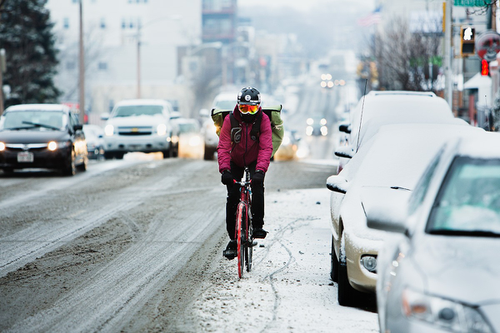bikerider: (196, 78, 301, 292)
